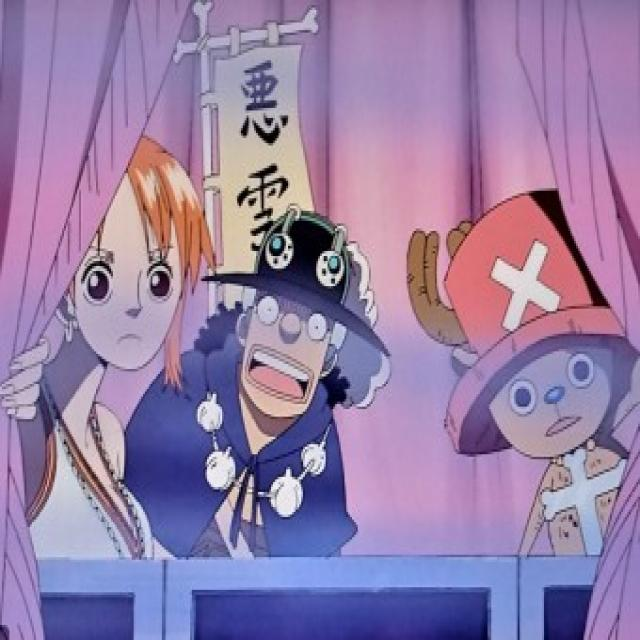Chyopa: (411, 188, 640, 561)
Nami: (54, 131, 220, 384)
Usopp: (212, 204, 370, 439)
